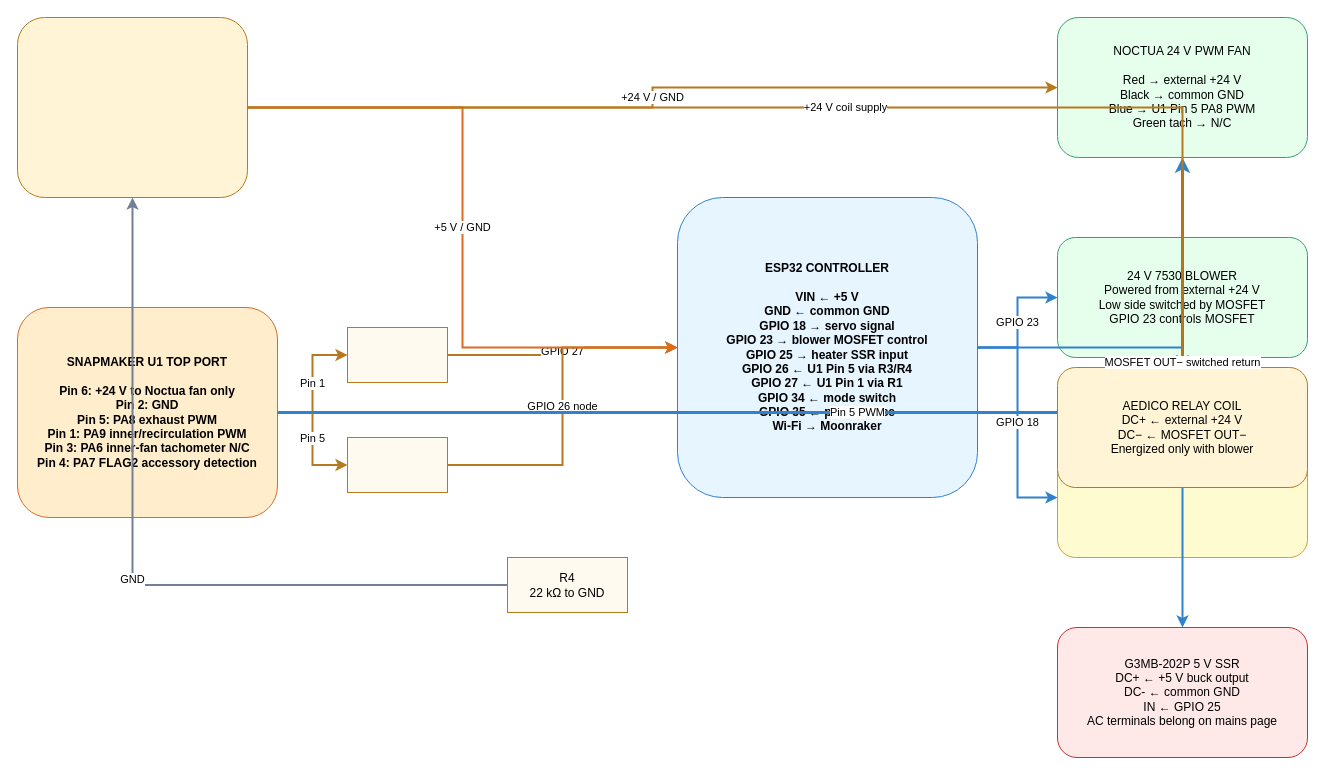
This 1325x775 diagram has some shape labels left out. The centre of each missing label's shape, as x and y in pixels:
MG90S SERVO Red → +5 V buck output Brown → common GND Yellow → GPIO 18: the point at 1182,497
R1 10 kΩ series: the point at 397,354
R3 13 kΩ series: the point at 397,464
UI POWER SUPPLY / HEATER BOX +24 V BUS GND BUS MP1584: +24 V → +5 V: the point at 132,107
